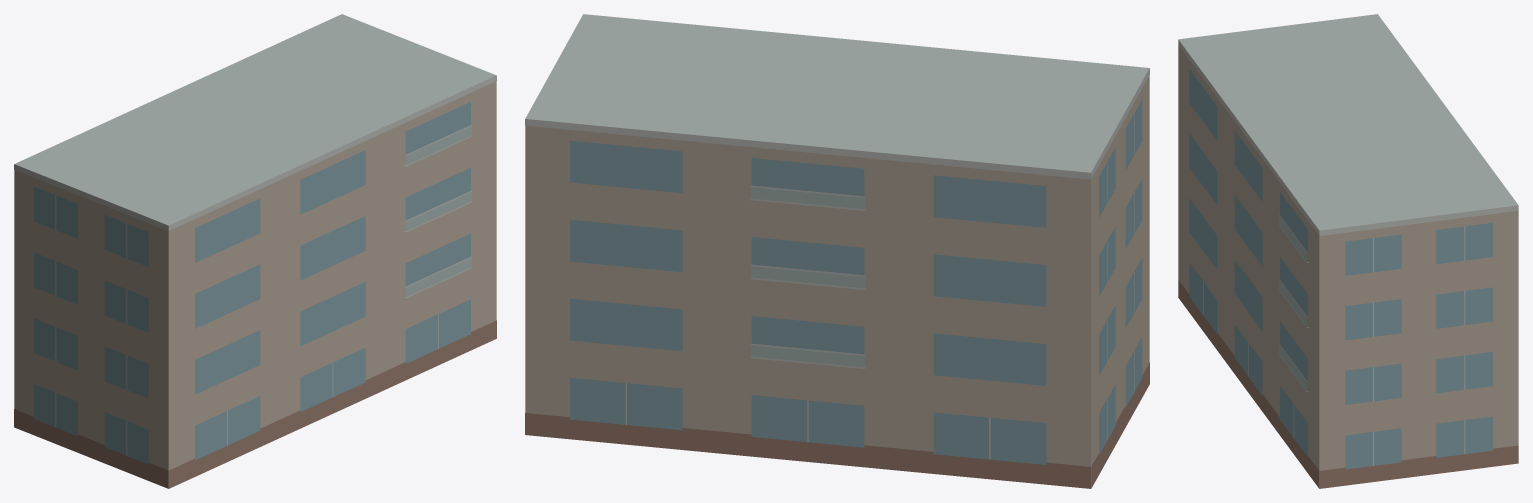
The model's file is survey-upis-32622915.glb.
3 views of the same model, side by side, from view 1: azimuth 30°, elevation 25°; view 2: azimuth 150°, elevation 25°; view 3: azimuth 270°, elevation 25° (orthographic). The views are drawn at different scales.
Visible parts, largest first — view 1: survey-upis-32622915.tmp; view 2: survey-upis-32622915.tmp; view 3: survey-upis-32622915.tmp.
Boxes of the visible parts, x1,y1,x2,y2 form: survey-upis-32622915.tmp: (14, 14, 496, 488); survey-upis-32622915.tmp: (525, 14, 1149, 488); survey-upis-32622915.tmp: (1178, 14, 1518, 488).
Size of the model in its own units: 20.71 by 11.5 by 13.75.
